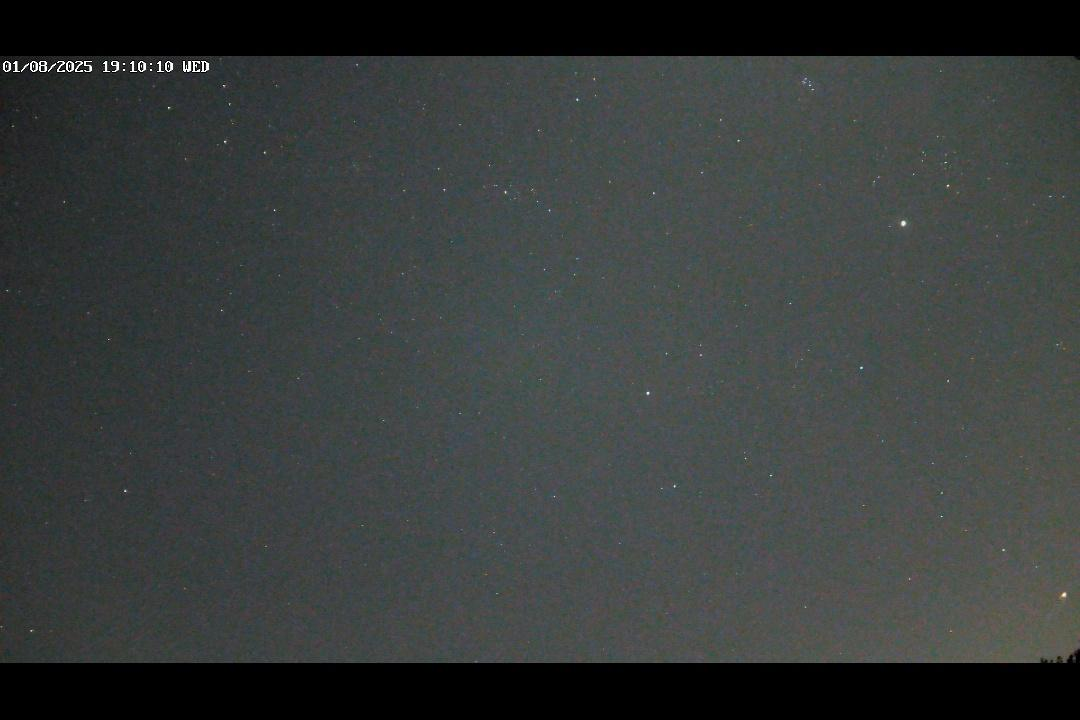Plane: (1047, 590, 1072, 626)
